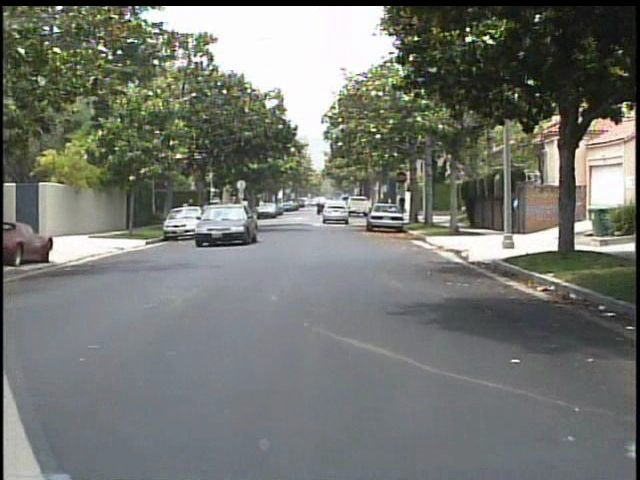person: (504, 191, 523, 237), (179, 197, 196, 231)
